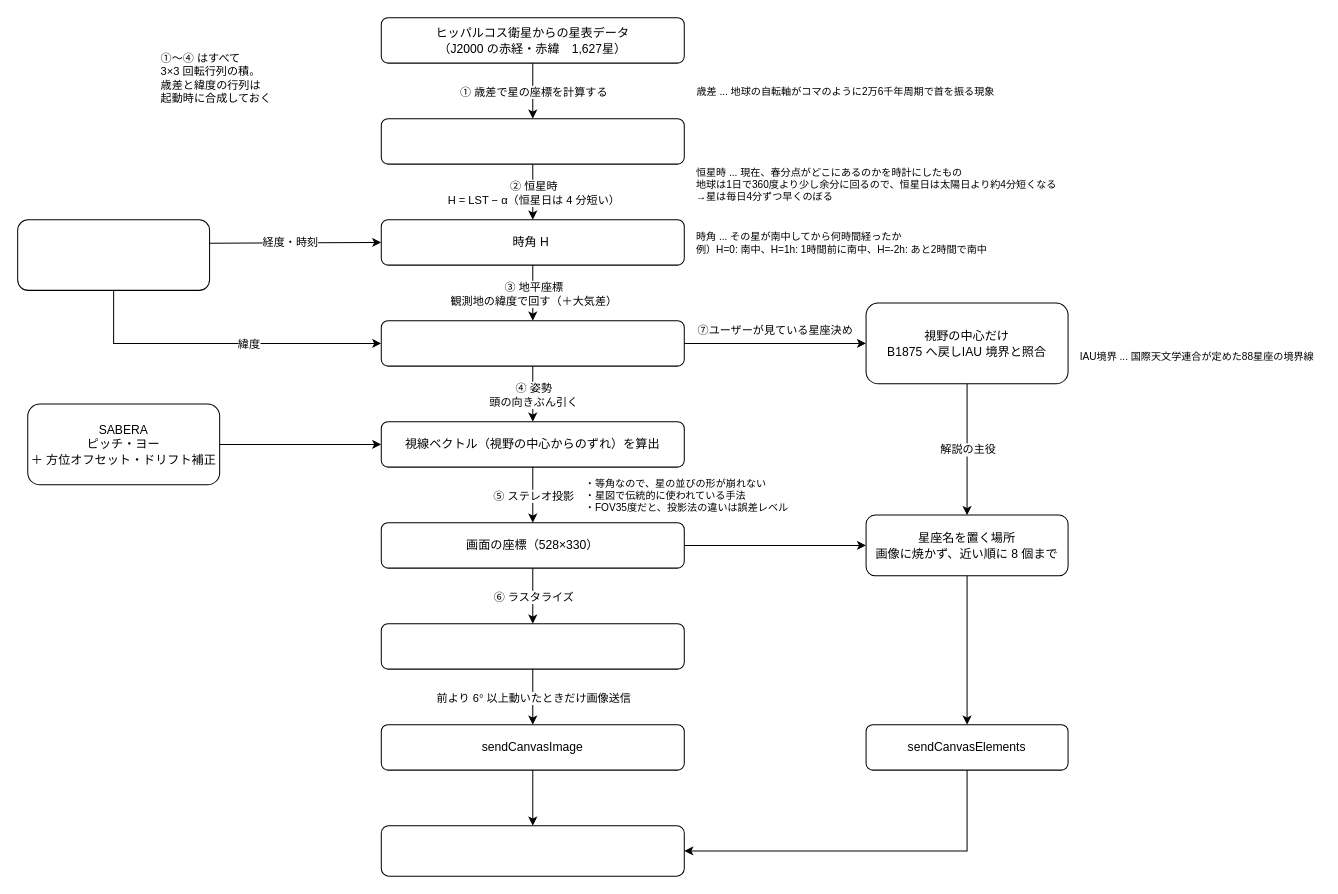
The diagram is 1338 pixels wide and 894 high, and some of its shapes have lost their labels. The box of each missing label's shape, as (x1, y1, x2, y2) in pixels:
グラスに星図と星座名が出る: (380, 825, 684, 876)
グレースケール画像: (380, 623, 684, 669)
スマホ 現在地・UTC時刻: (17, 219, 210, 290)
今日の赤経・赤緯（星の座標）: (380, 118, 684, 164)
方位角・高度 ＝ 空のどこにあるか: (380, 320, 684, 366)
